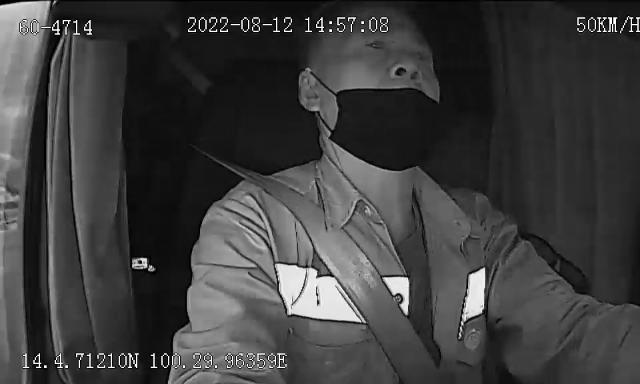SafeDriving: (382, 54, 426, 84)
Seatbelt: (193, 144, 463, 384)
